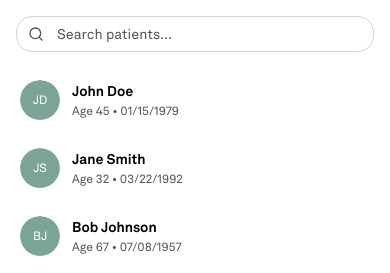
Test: PatientRoster › Search Functionality › filters patients by name
The width and height of the screenshot is (390, 273).
Note: Search for "Doe" to specifically match only John Doe
Type "Doe" into the field with placeholder "Search patients...". click: [195, 34]
box: left=16, top=16, right=374, bottom=52
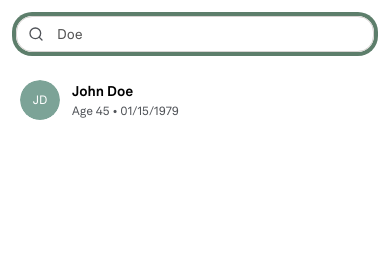
Expected: the text "John Doe" is shown, left=72, top=81, right=133, bottom=101
Expected: the button "Jane Smith" is gone
Expected: the button "Bob Johnson" is gone
